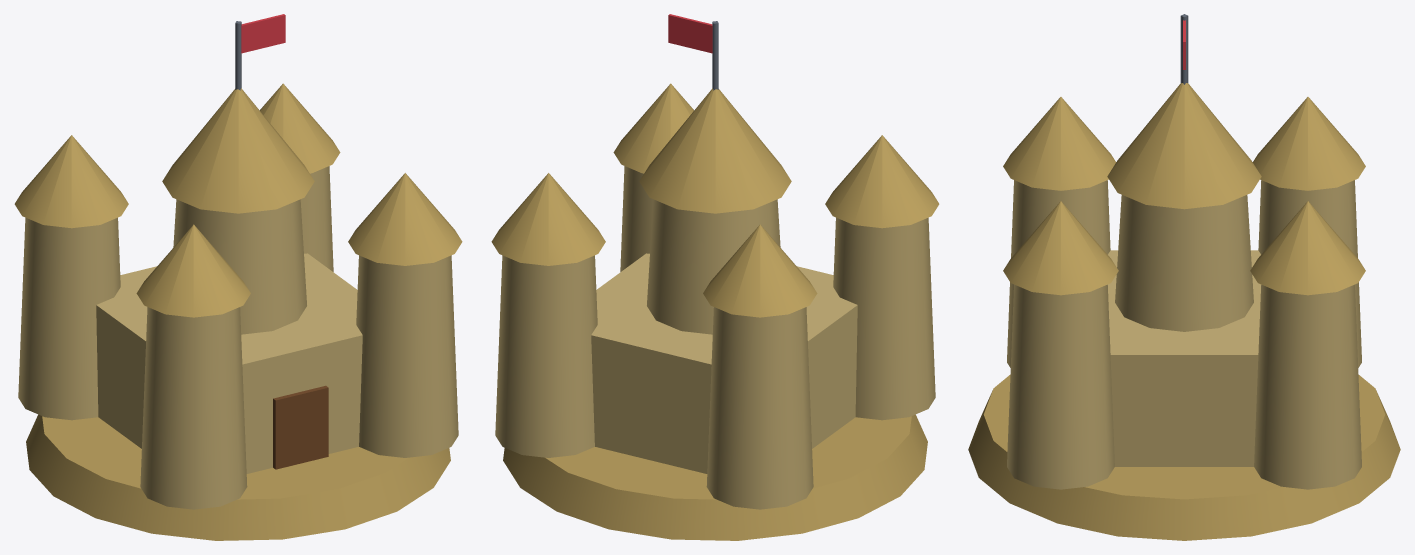
File: landmark_sandcastle.glb
The picture shows the model from 3 angles, left to right: view 1: azimuth 30°, elevation 25°; view 2: azimuth 150°, elevation 25°; view 3: azimuth 270°, elevation 25°; orthographic projection.
Visible parts, largest first — view 1: Landmark_sandcastle; view 2: Landmark_sandcastle; view 3: Landmark_sandcastle.
Boxes of the visible parts, bbox=[...] form: Landmark_sandcastle: bbox=[14, 14, 462, 540]; Landmark_sandcastle: bbox=[491, 14, 939, 540]; Landmark_sandcastle: bbox=[968, 14, 1400, 540].
Size of the model in its own units: 5.6 by 6.2 by 5.6.
